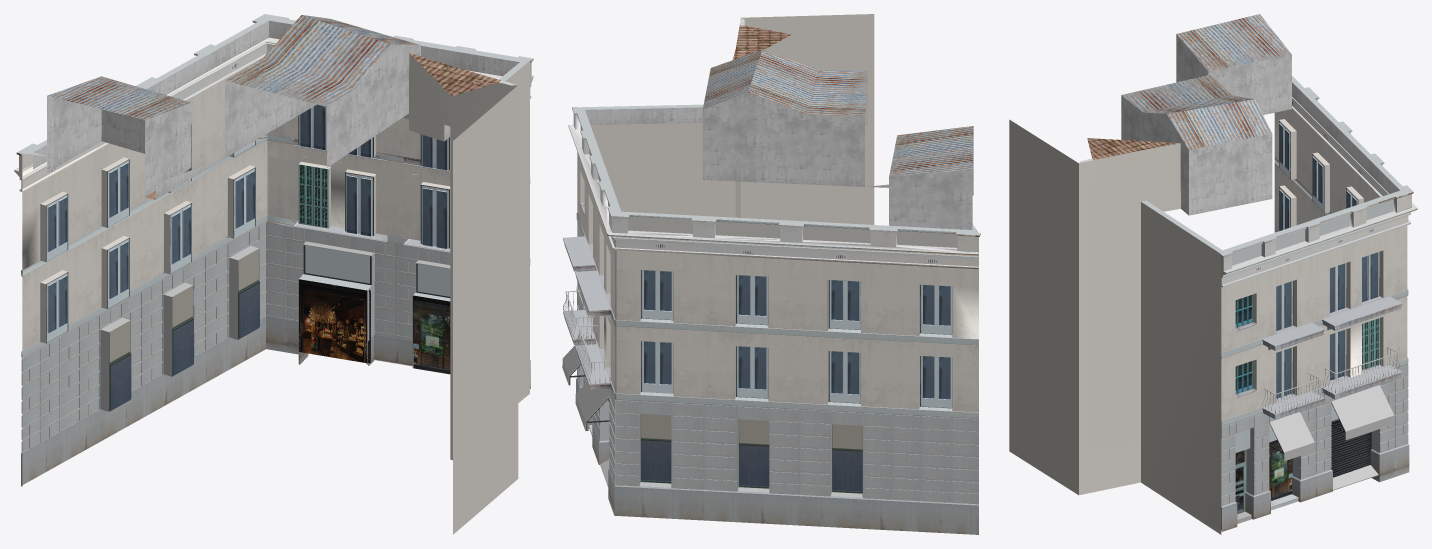
Rendered from rituals.fbx.
3 renders of one model, left to right at view 1: azimuth 30°, elevation 25°; view 2: azimuth 150°, elevation 25°; view 3: azimuth 270°, elevation 25°, orthographic. The views are drawn at different scales.
Visible parts, largest first — view 1: polySurface642, polySurface645; view 2: polySurface642, polySurface645; view 3: polySurface642, polySurface645, polySurface646, polySurface644.
Part boxes in pixels (x1=…): polySurface642: x1=14, y1=14, x2=533, y2=534; polySurface645: x1=303, y1=241, x2=374, y2=285; polySurface642: x1=563, y1=14, x2=980, y2=534; polySurface645: x1=575, y1=382, x2=609, y2=431; polySurface642: x1=1009, y1=14, x2=1417, y2=534; polySurface645: x1=1331, y1=385, x2=1394, y2=440; polySurface646: x1=1331, y1=420, x2=1371, y2=477; polySurface644: x1=1269, y1=412, x2=1314, y2=461.
Bounding box in the file's own units: 2002 × 1632 × 1725.
